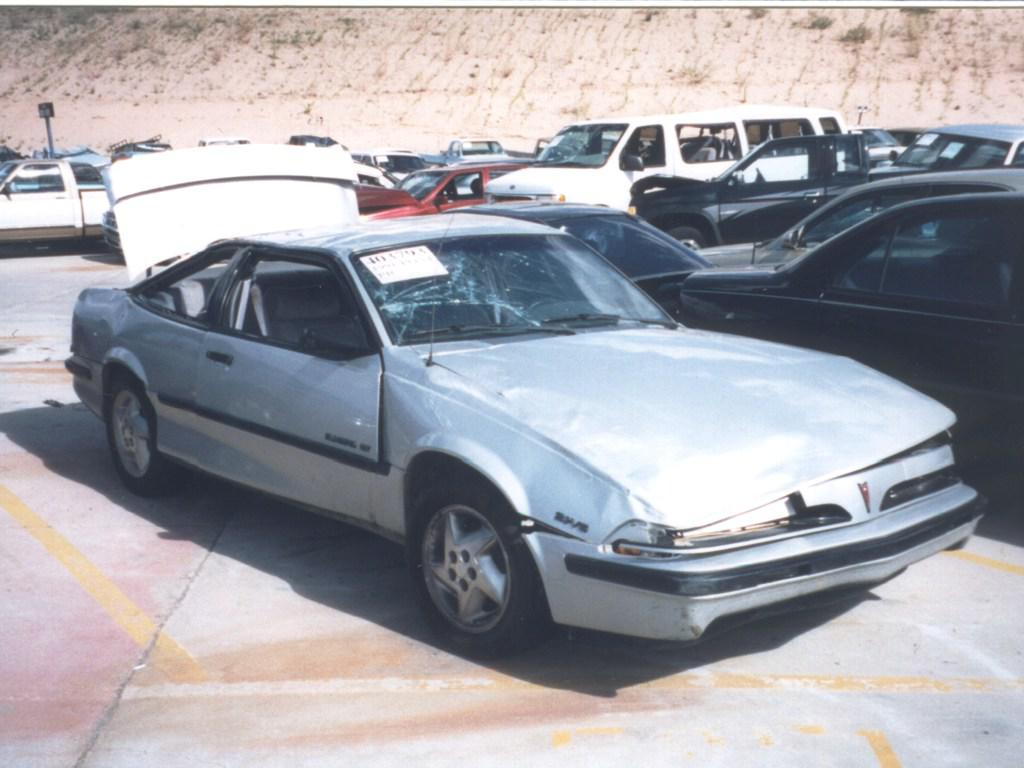Front-Windscreen-Damage: (365, 242, 604, 348)
bonnet-dent: (493, 324, 890, 456)
fender-dent: (431, 446, 630, 548)
